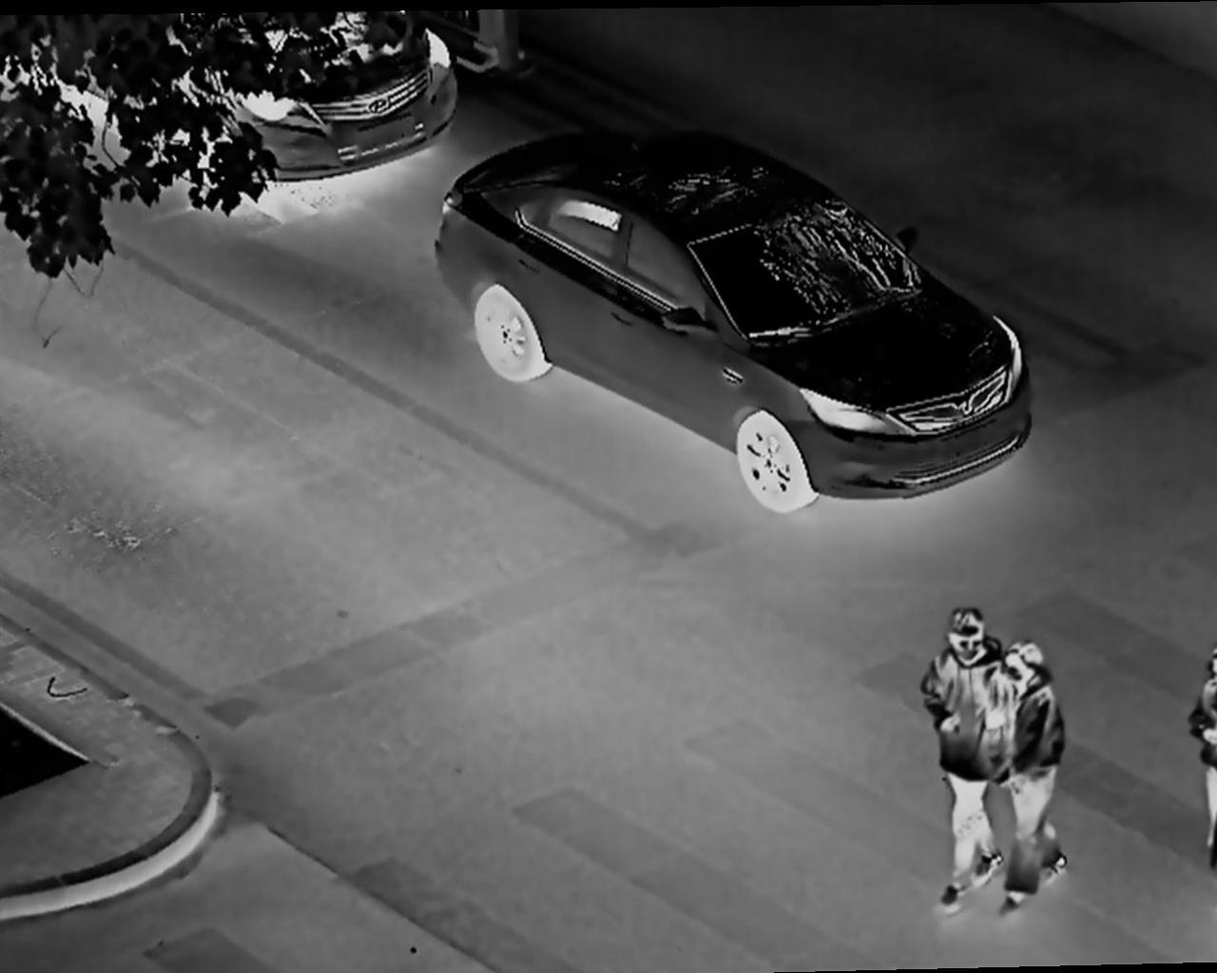person: (923, 601, 1019, 892), (997, 642, 1072, 915)
